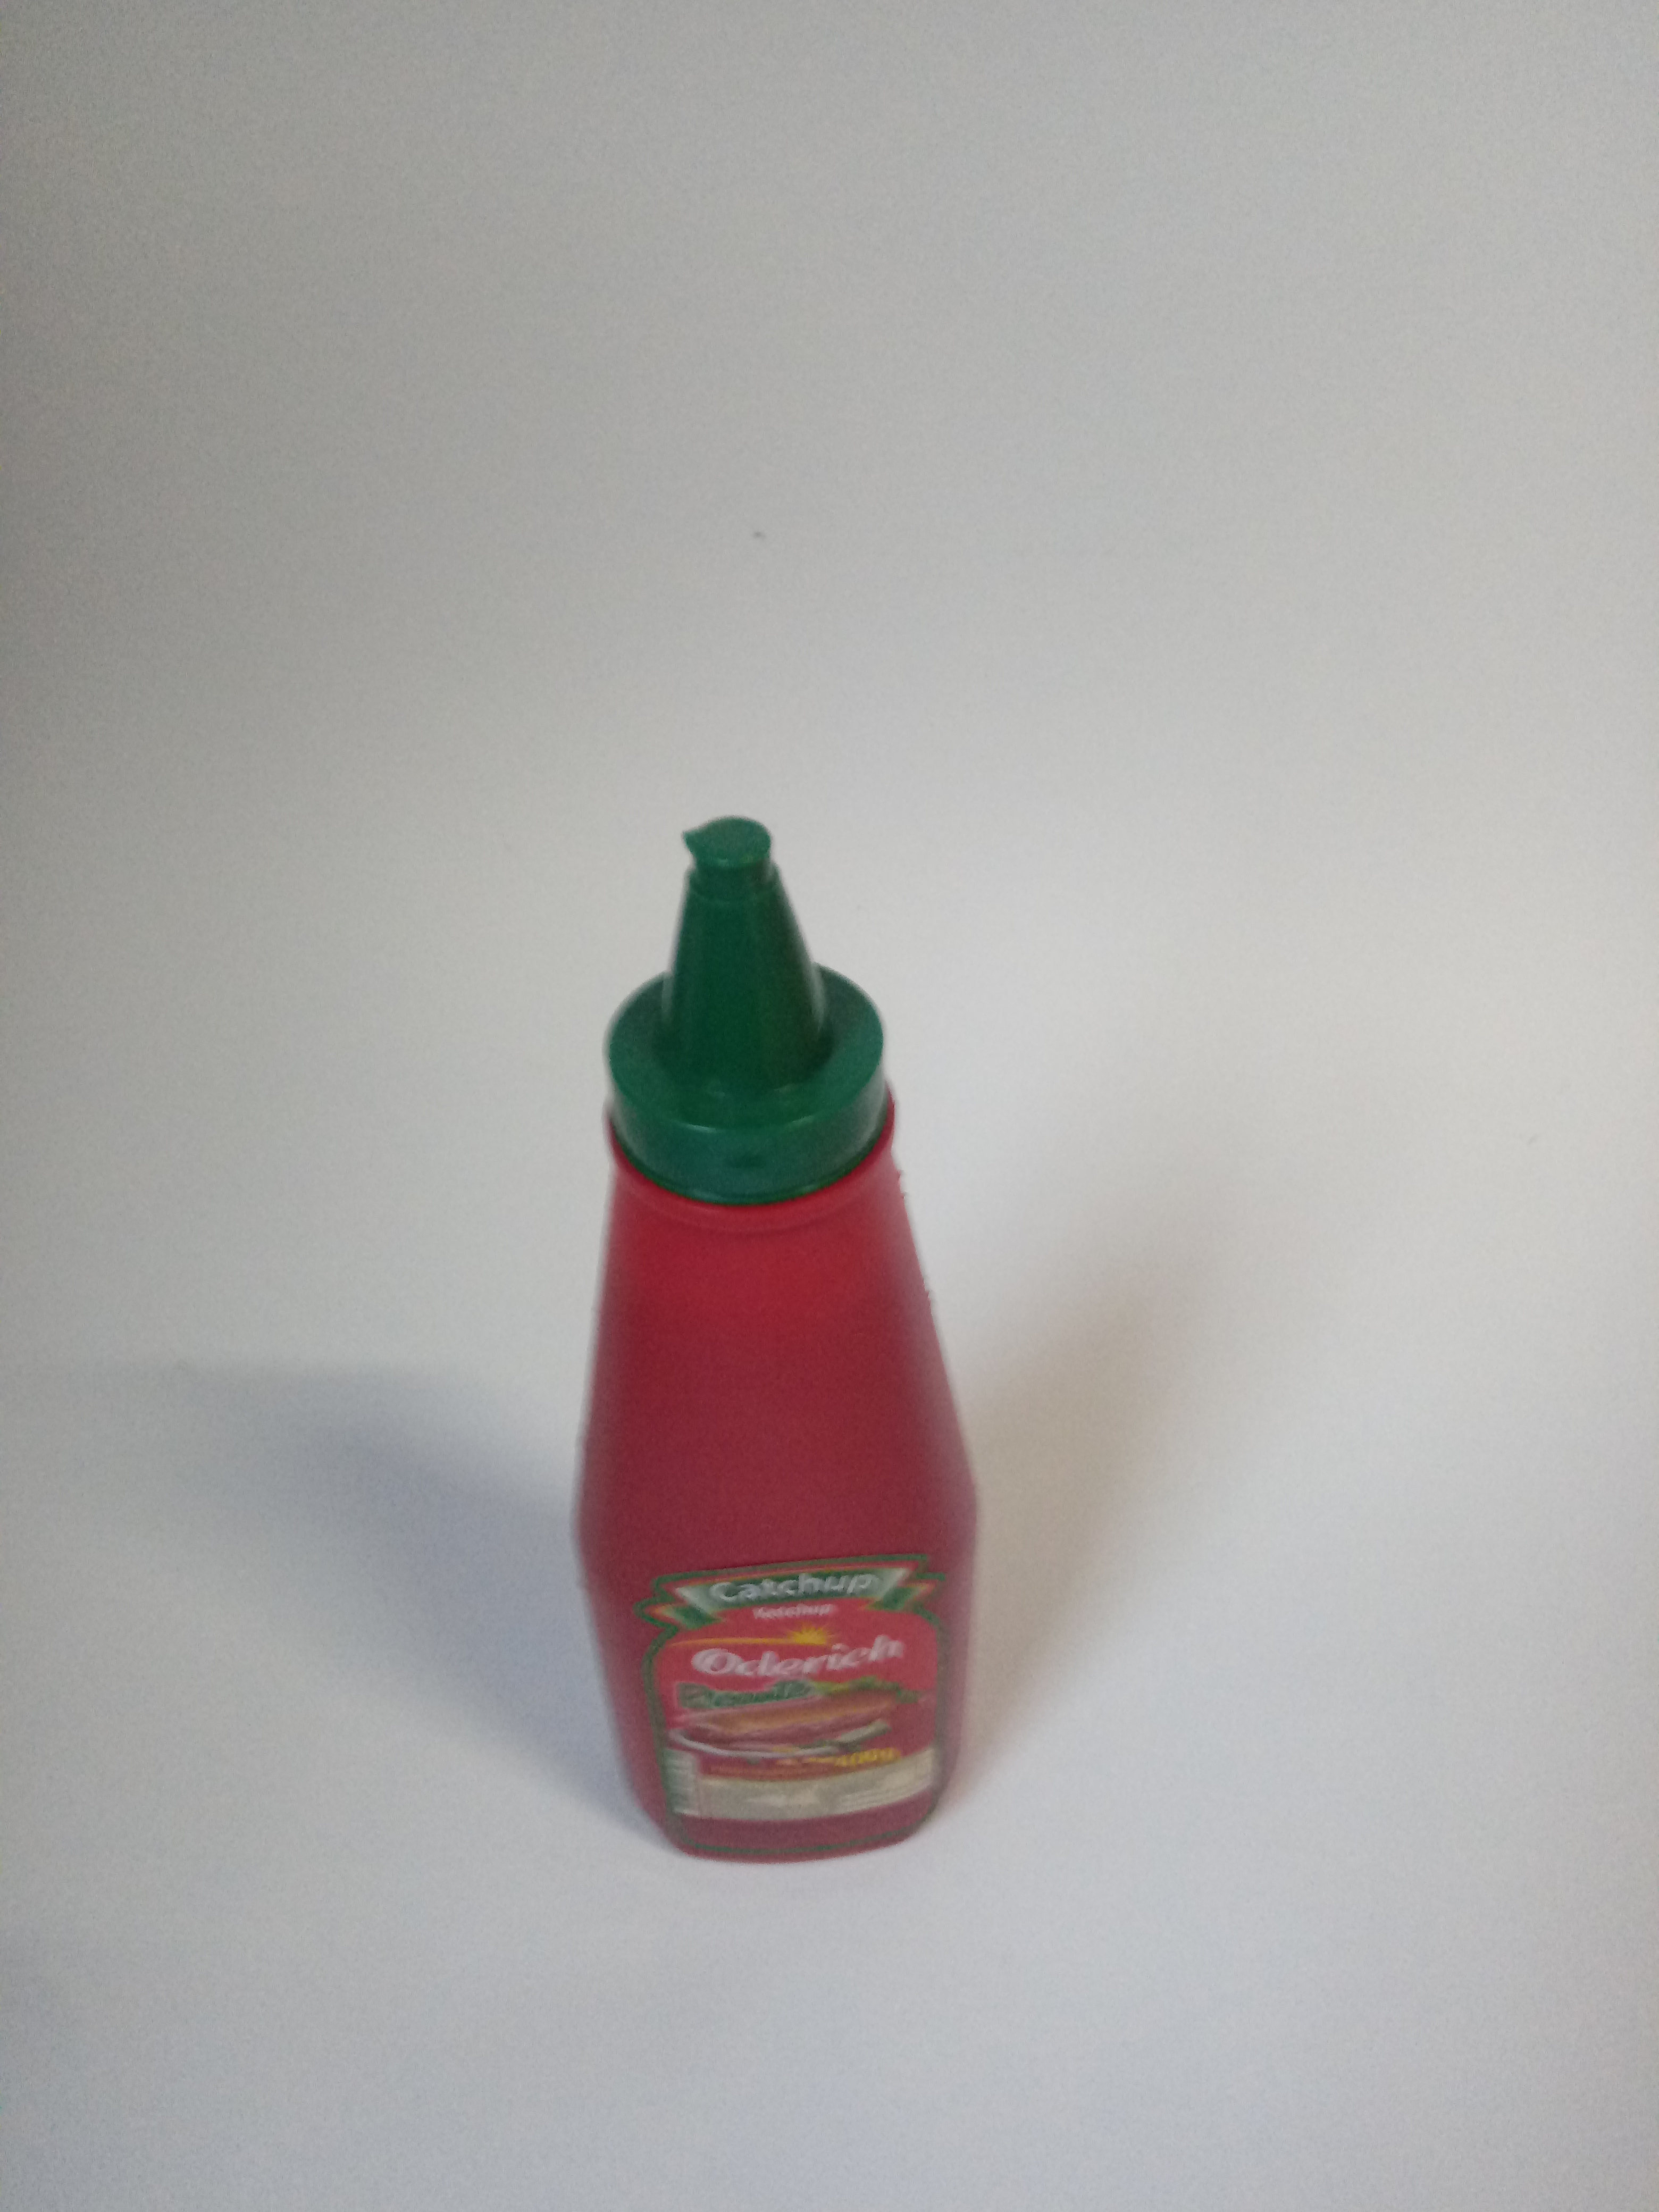catchup-oderich: (505, 789, 1023, 1886)
